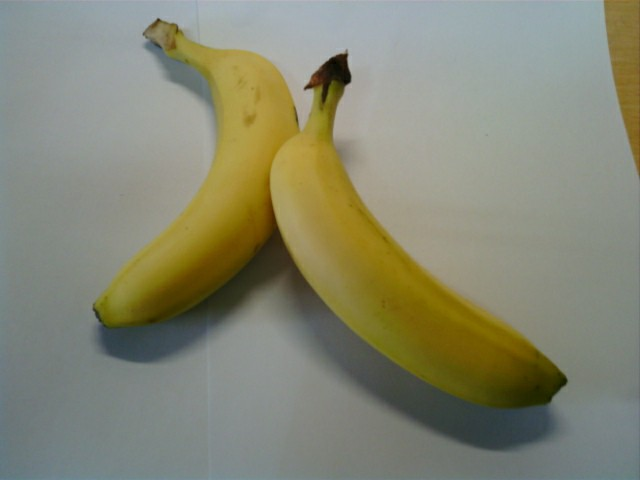fresh_banana: (271, 119, 567, 408), (93, 44, 293, 327)
